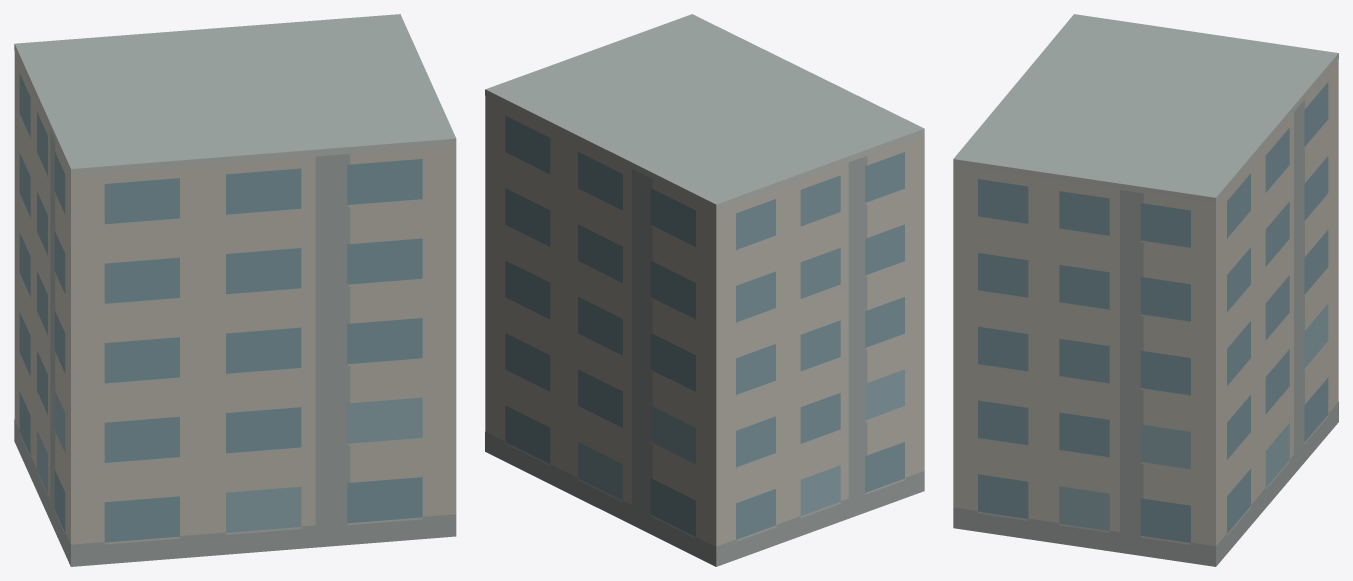
File: survey-upis-32884865.glb
3 renders of one model, left to right at view 1: azimuth 30°, elevation 25°; view 2: azimuth 150°, elevation 25°; view 3: azimuth 270°, elevation 25°, orthographic. The views are drawn at different scales.
Visible parts, largest first — view 1: survey-upis-32884865.tmp; view 2: survey-upis-32884865.tmp; view 3: survey-upis-32884865.tmp.
Part boxes in pixels (bbox=[...]): survey-upis-32884865.tmp: bbox=[14, 14, 456, 566]; survey-upis-32884865.tmp: bbox=[485, 14, 924, 566]; survey-upis-32884865.tmp: bbox=[953, 14, 1338, 566].
Size of the model in its own units: 15.17 by 14.2 by 13.45.
